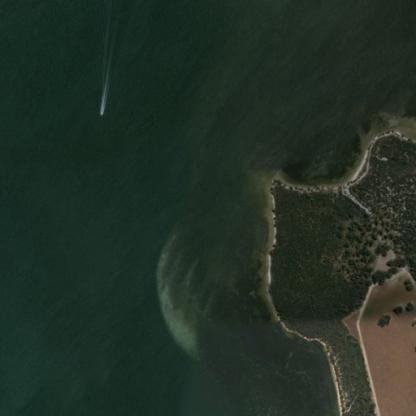ship: (83, 112, 86, 115)
